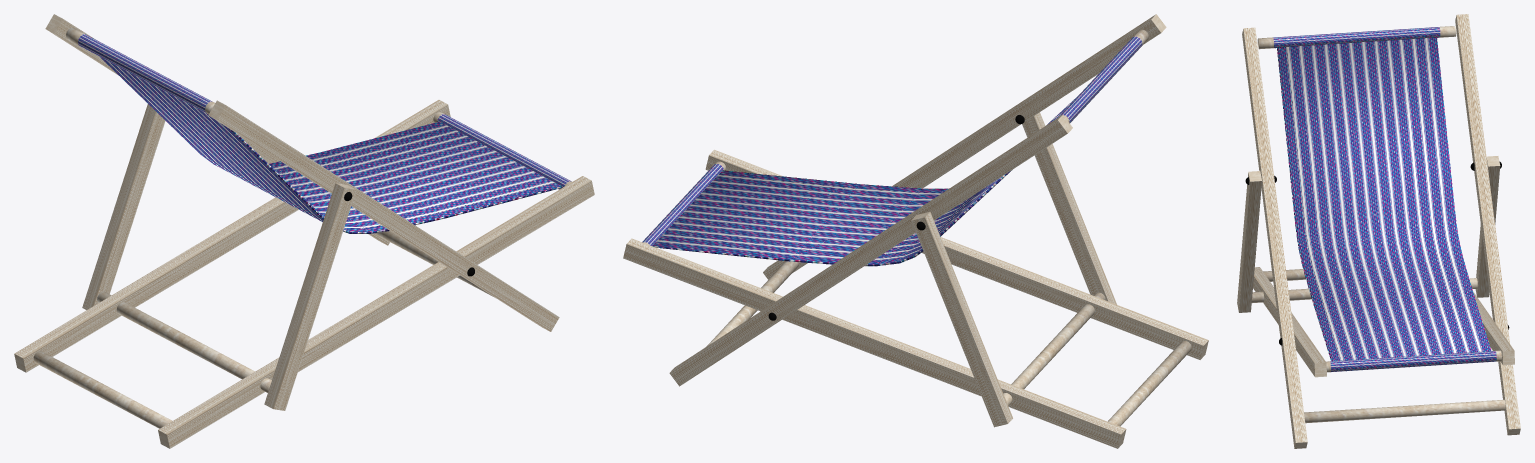
File: beachChair.fbx
3 views of the same model, side by side, from view 1: azimuth 30°, elevation 25°; view 2: azimuth 150°, elevation 25°; view 3: azimuth 270°, elevation 25° (orthographic). The views are drawn at different scales.
Visible parts, largest first — view 1: Plane, Cube.002, Cube.003, Cube, Cube.004, Cube.005, Cylinder.001, Cylinder.003, Cylinder.002, Cylinder.004, Cube.001, Cylinder; view 2: Plane, Cube.003, Cube.001, Cube.002, Cube, Cube.005, Cube.004, Cylinder.001, Cylinder.003, Cylinder.002, Cylinder.004, Cylinder; view 3: Plane, Cube, Cube.001, Cylinder, Cylinder.003, Cube.004, Cylinder.004, Cube.002, Cube.005, Cube.003, Cylinder.001.
Part boxes in pixels (x1,y1,x2,y2): Plane: [100, 57, 561, 233]; Cube.002: [158, 176, 594, 448]; Cube.003: [14, 100, 450, 372]; Cube: [208, 100, 559, 331]; Cube.004: [264, 183, 356, 410]; Cube.005: [82, 104, 165, 310]; Cylinder.001: [97, 291, 271, 392]; Cylinder.003: [66, 28, 214, 114]; Cylinder.002: [33, 351, 172, 428]; Cylinder.004: [433, 112, 571, 189]; Cube.001: [45, 14, 389, 245]; Cylinder: [374, 231, 494, 297]; Plane: [652, 95, 1078, 266]; Cube.003: [623, 238, 1126, 448]; Cube.001: [669, 115, 1072, 386]; Cube.002: [705, 149, 1208, 359]; Cube: [763, 14, 1166, 279]; Cube.005: [911, 212, 1012, 427]; Cube.004: [1022, 112, 1116, 304]; Cylinder.001: [1003, 292, 1105, 405]; Cylinder.003: [1058, 29, 1148, 123]; Cylinder.002: [1108, 341, 1191, 426]; Cylinder.004: [642, 161, 726, 245]; Cylinder: [706, 261, 799, 346]; Plane: [1277, 37, 1491, 361]; Cube: [1242, 27, 1307, 448]; Cube.001: [1455, 14, 1520, 435]; Cylinder: [1304, 399, 1505, 423]; Cylinder.003: [1257, 26, 1456, 49]; Cube.004: [1237, 171, 1261, 312]; Cylinder.004: [1326, 350, 1501, 372]; Cube.002: [1253, 267, 1326, 377]; Cube.005: [1475, 156, 1500, 297]; Cube.003: [1473, 291, 1514, 365]; Cylinder.001: [1251, 278, 1477, 303].
Size of the model in its own units: 359 by 231 by 214.
3 materials, 2 textured.
